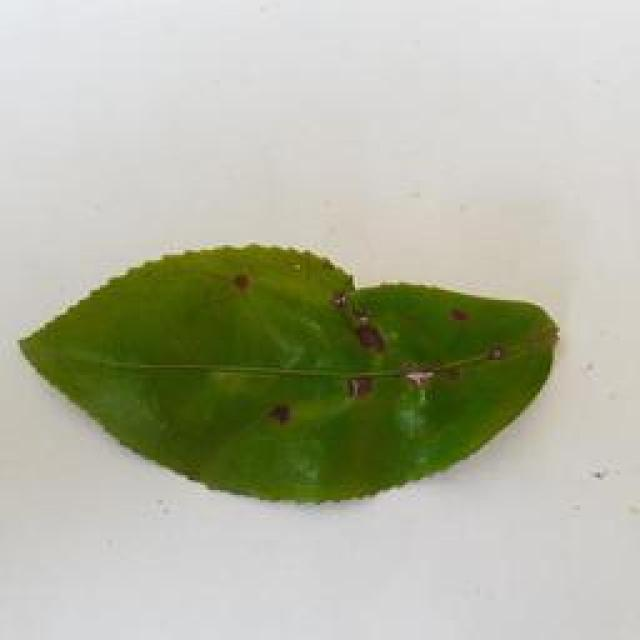Helopeltis: (0, 235, 568, 505)
